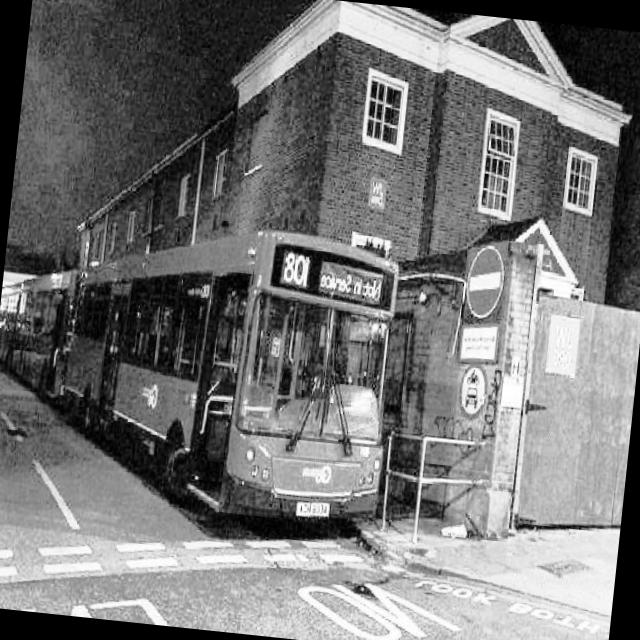Bus: (46, 202, 417, 528), (0, 229, 86, 410)
